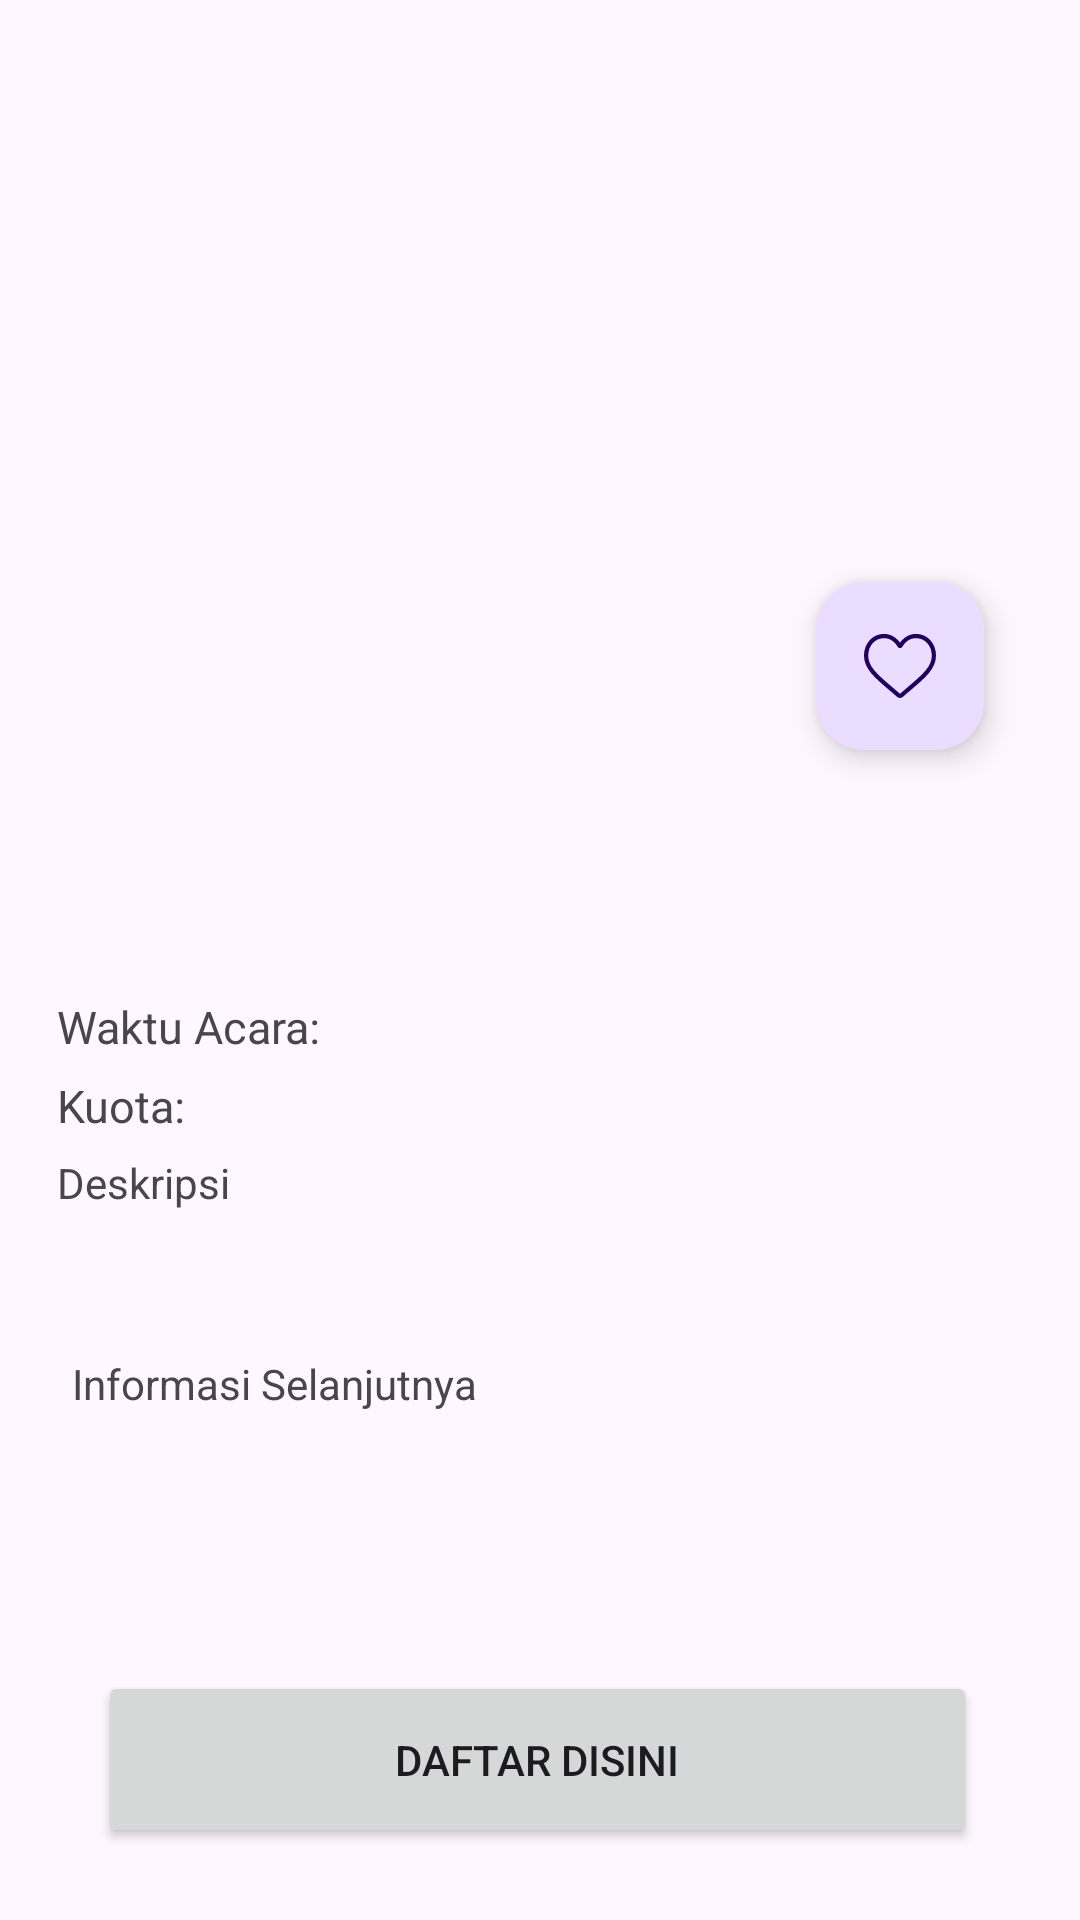

Named icons in this screenshot (1080*1920) and their bounding boxes, [left=x1, top=y1, right=x2, bottom=y2]:
heart border: [left=816, top=582, right=984, bottom=750]
